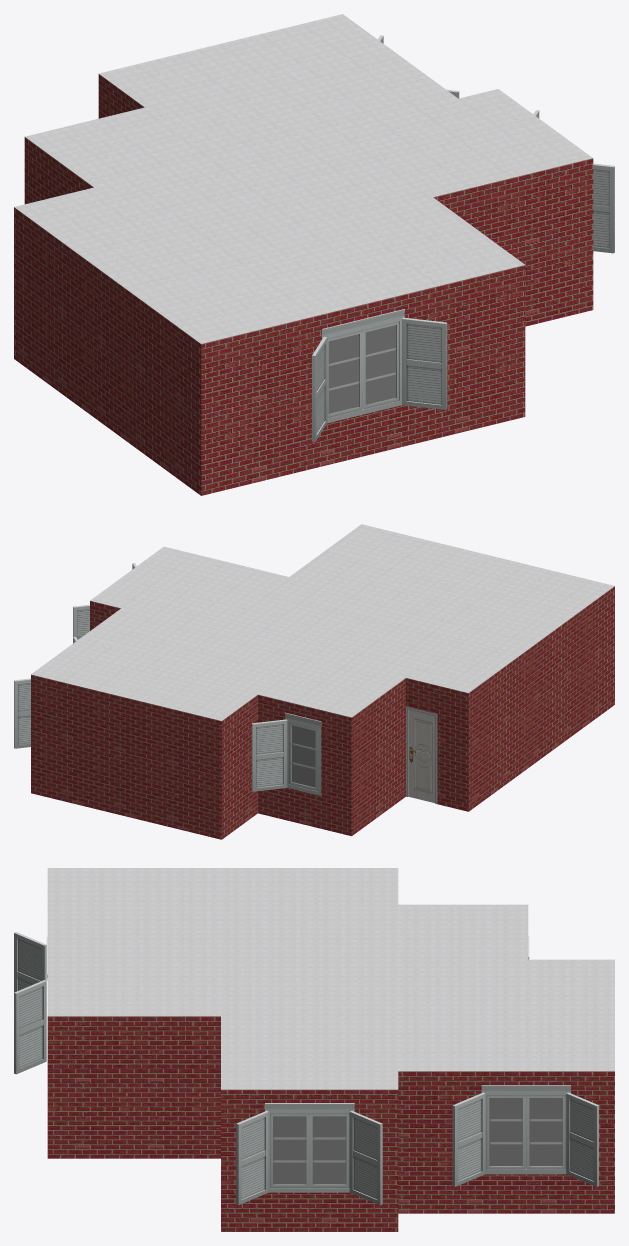
Rendered from house_0110101.FBX.
The picture shows the model from 3 angles, top to bottom: view 1: azimuth 30°, elevation 25°; view 2: azimuth 150°, elevation 25°; view 3: azimuth 270°, elevation 25°; orthographic projection. The views are drawn at different scales.
Visible parts, largest first — view 1: house_0110101_roof_100_00, house_0110101_outwall_100_02, house_0110101_outwall_100_01, house_0110101_outwall_100_04, house_0110101_floor_101_00, house_0110101_tcx_100_02, house_0110101_outwall_100_11, house_0110101_tcx_100_01, house_0110101_floor_103_00, house_0110101_outwall_100_09, house_0110101_tcx_100_04; view 2: house_0110101_roof_100_00, house_0110101_outwall_100_08, house_0110101_outwall_100_01, house_0110101_outwall_100_11, house_0110101_outwall_100_10, house_0110101_floor_104_00, house_0110101_outwall_100_00, house_0110101_outwall_100_09, house_0110101_outwall_101_00, house_0110101_tcx_100_08, house_0110101_tcx_100_01, house_0110101_floor_102_00 (+4 smaller); view 3: house_0110101_roof_100_00, house_0110101_outwall_100_03, house_0110101_outwall_100_07, house_0110101_floor_103_00, house_0110101_floor_102_00, house_0110101_outwall_100_05, house_0110101_floor_101_00, house_0110101_tcx_100_07, house_0110101_tcx_100_05, house_0110101_tcx_100_03.
Boxes of the visible parts, bbox=[...] form: house_0110101_roof_100_00: bbox=[14, 14, 592, 343]; house_0110101_outwall_100_02: bbox=[201, 265, 525, 485]; house_0110101_outwall_100_01: bbox=[14, 207, 201, 484]; house_0110101_outwall_100_04: bbox=[433, 158, 593, 315]; house_0110101_floor_101_00: bbox=[312, 309, 447, 441]; house_0110101_tcx_100_02: bbox=[201, 406, 525, 495]; house_0110101_outwall_100_11: bbox=[24, 137, 93, 204]; house_0110101_tcx_100_01: bbox=[14, 348, 201, 495]; house_0110101_floor_103_00: bbox=[533, 110, 614, 253]; house_0110101_outwall_100_09: bbox=[98, 74, 144, 118]; house_0110101_tcx_100_04: bbox=[525, 299, 593, 326]; house_0110101_roof_100_00: bbox=[31, 524, 614, 720]; house_0110101_outwall_100_08: bbox=[31, 674, 221, 831]; house_0110101_outwall_100_01: bbox=[468, 586, 614, 803]; house_0110101_outwall_100_11: bbox=[351, 678, 405, 827]; house_0110101_outwall_100_10: bbox=[258, 694, 351, 827]; house_0110101_floor_104_00: bbox=[252, 712, 321, 795]; house_0110101_outwall_100_00: bbox=[406, 678, 468, 803]; house_0110101_outwall_100_09: bbox=[221, 695, 257, 831]; house_0110101_outwall_101_00: bbox=[406, 706, 437, 803]; house_0110101_tcx_100_08: bbox=[31, 785, 221, 839]; house_0110101_tcx_100_01: bbox=[468, 697, 614, 811]; house_0110101_floor_102_00: bbox=[14, 636, 77, 748]; house_0110101_roof_100_00: bbox=[47, 868, 614, 1089]; house_0110101_outwall_100_03: bbox=[47, 1016, 220, 1148]; house_0110101_outwall_100_07: bbox=[398, 1071, 614, 1203]; house_0110101_floor_103_00: bbox=[236, 1103, 382, 1205]; house_0110101_floor_102_00: bbox=[452, 1085, 598, 1186]; house_0110101_outwall_100_05: bbox=[221, 1089, 398, 1221]; house_0110101_floor_101_00: bbox=[14, 932, 47, 1074]; house_0110101_tcx_100_07: bbox=[398, 1203, 614, 1213]; house_0110101_tcx_100_05: bbox=[221, 1222, 398, 1231]; house_0110101_tcx_100_03: bbox=[47, 1149, 220, 1158].
Bounding box in the file's own units: 1030 × 290 × 1110.
55 materials, 55 textured.
